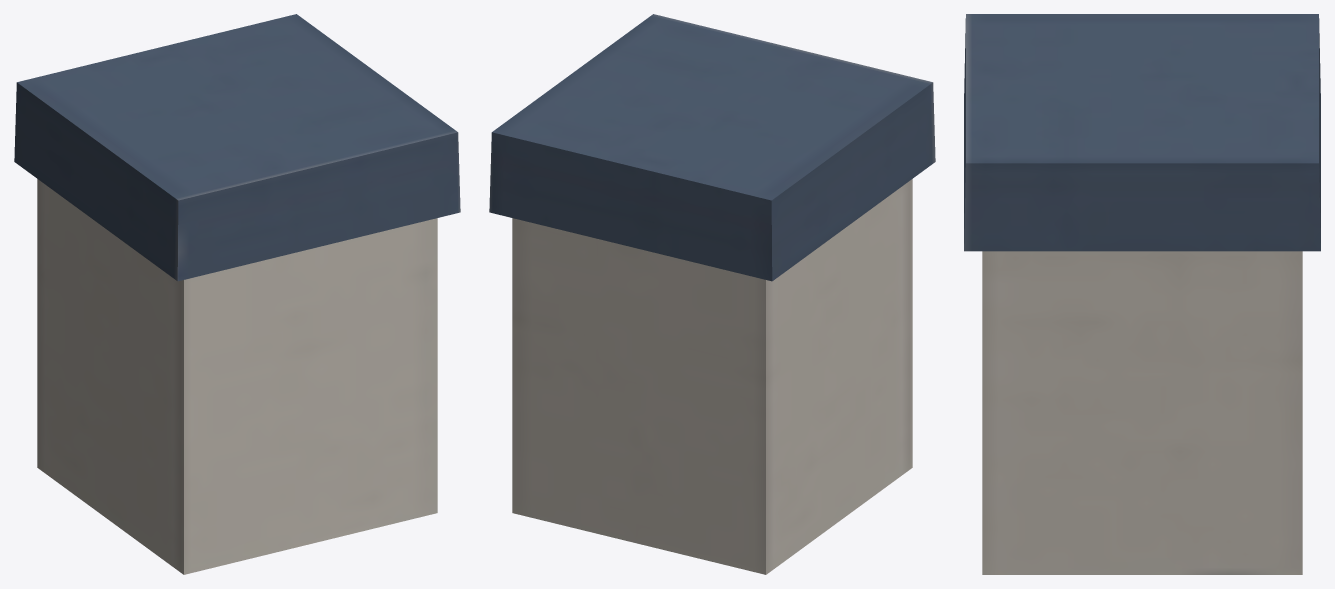
File: KP_CookieBox.FBX
The picture shows the model from 3 angles, left to right: view 1: azimuth 30°, elevation 25°; view 2: azimuth 150°, elevation 25°; view 3: azimuth 270°, elevation 25°; orthographic projection. The views are drawn at different scales.
Visible parts, largest first — view 1: KP_CookieBox; view 2: KP_CookieBox; view 3: KP_CookieBox.
Boxes of the visible parts, left/top/right/bottom form: KP_CookieBox: left=14, top=14, right=460, bottom=574; KP_CookieBox: left=489, top=14, right=935, bottom=574; KP_CookieBox: left=964, top=14, right=1320, bottom=574.
Size of the model in its own units: 15.39 by 19.92 by 15.39.
